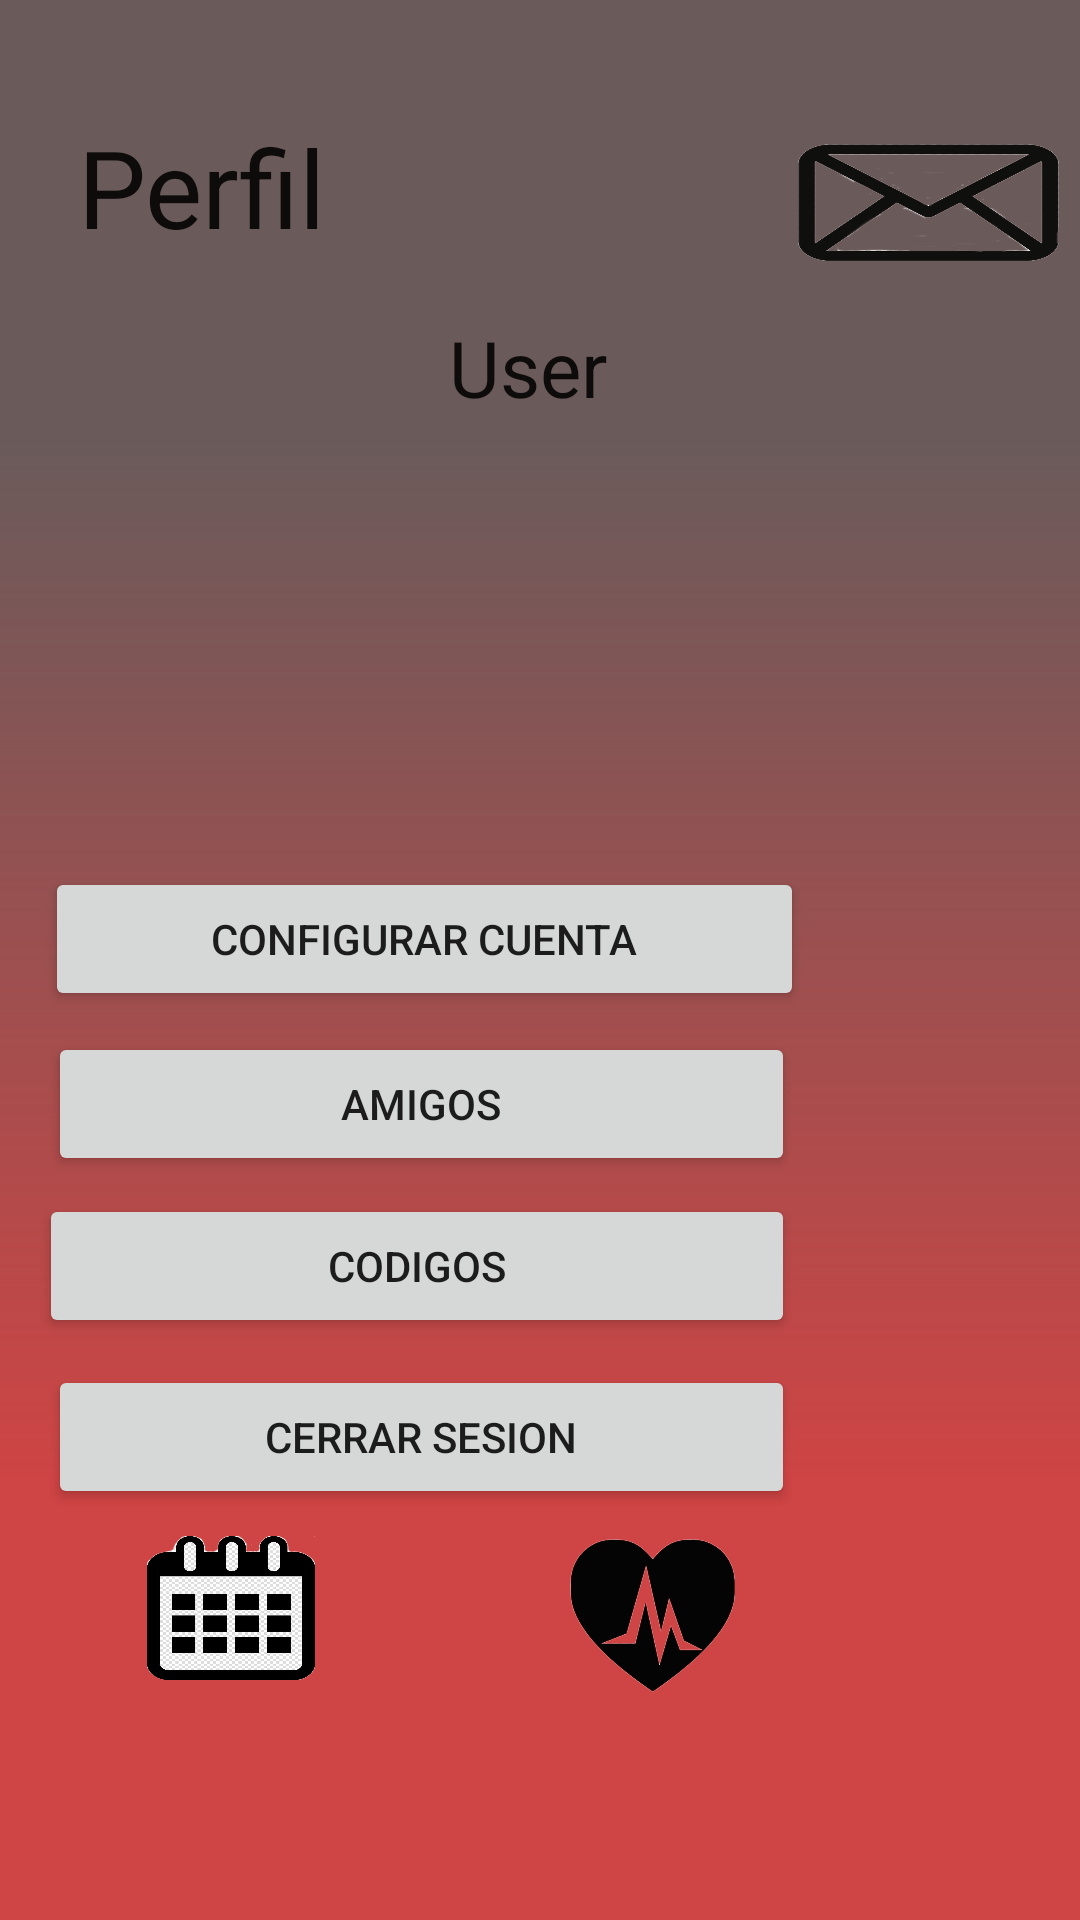

Icons on this 1080×1920 Android screen, each with its box as (x1, y1, x2, y2):
eventos: (147, 1536, 315, 1680)
mensajes: (798, 144, 1059, 261)
